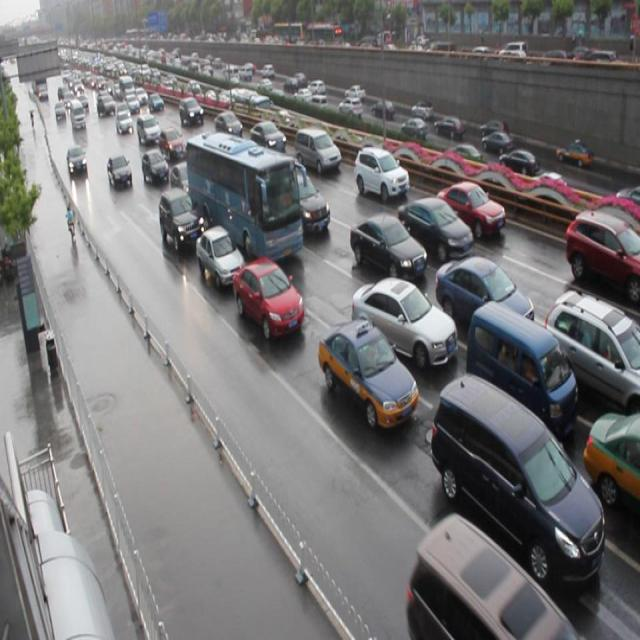car: (541, 287, 640, 412), (317, 318, 419, 427), (351, 276, 456, 372), (434, 253, 532, 337), (564, 209, 640, 303), (582, 411, 640, 518), (231, 256, 304, 338), (350, 212, 426, 282), (396, 194, 471, 259), (434, 180, 504, 238), (196, 224, 246, 288), (283, 170, 329, 237), (353, 146, 409, 200), (158, 188, 203, 252), (249, 119, 286, 155), (142, 147, 170, 185), (170, 162, 193, 200), (214, 110, 243, 139)
truck: (430, 374, 604, 584), (403, 512, 578, 640), (464, 298, 576, 429), (294, 124, 341, 176)
van: (186, 132, 302, 264)
